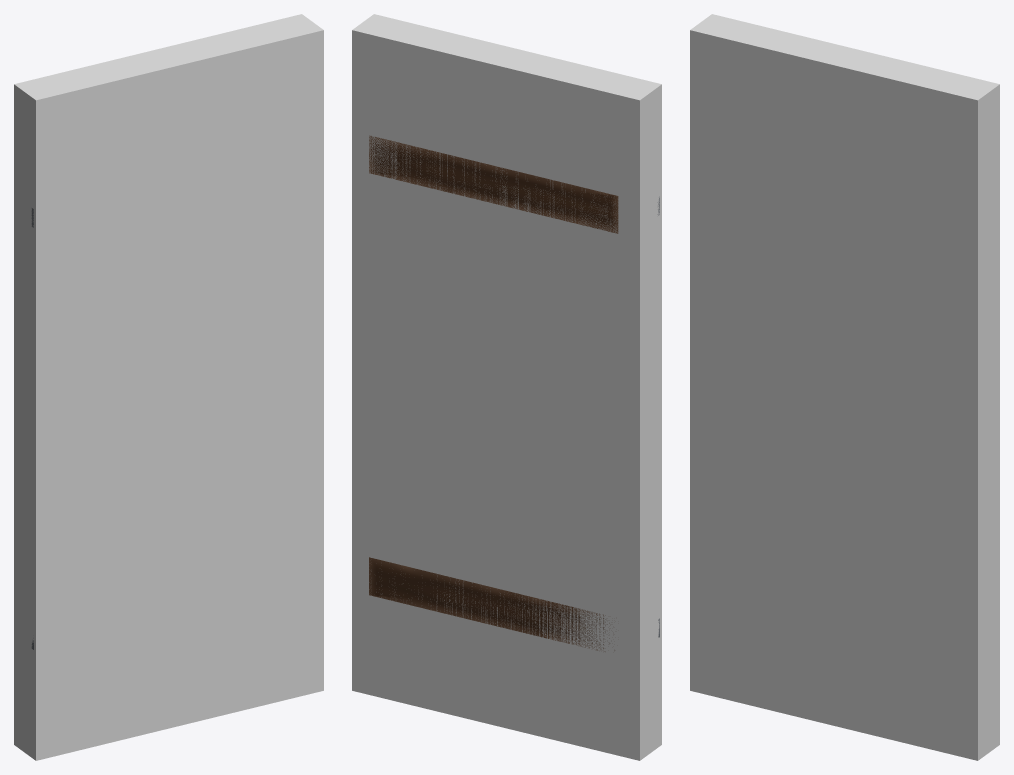
File: house_door.glb
3 renders of one model, left to right at view 1: azimuth 30°, elevation 25°; view 2: azimuth 150°, elevation 25°; view 3: azimuth 330°, elevation 25°, orthographic.
Parts seen in each view (by area): view 1: COL_house_door_static_00; view 2: COL_house_door_static_00, house_door_static; view 3: COL_house_door_static_00.
Boxes of the visible parts, x1,y1,x2,y2 form: COL_house_door_static_00: (14, 14, 323, 760); COL_house_door_static_00: (352, 14, 661, 760); house_door_static: (369, 135, 659, 651); COL_house_door_static_00: (690, 14, 999, 760).
Size of the model in its own units: 0.7946 by 1.74 by 0.1054.
Materials: 3 (3 with a texture image).
